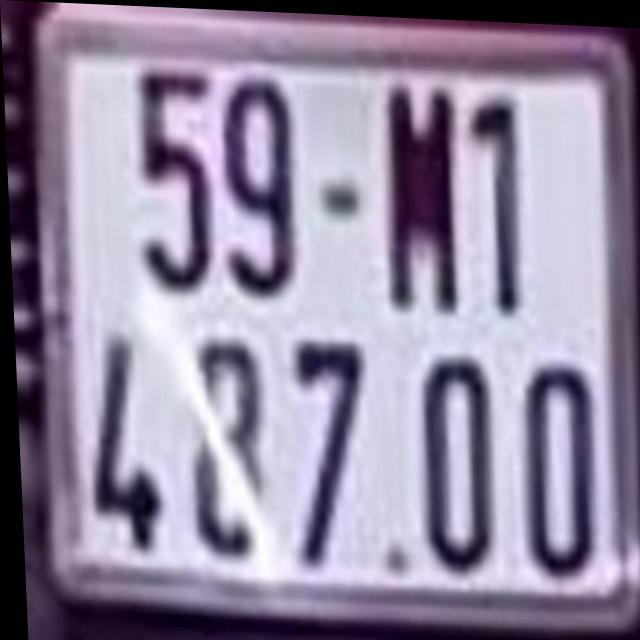0: (515, 351, 596, 570), (424, 354, 495, 571)
1: (473, 92, 528, 311)
4: (90, 357, 163, 549)
5: (135, 68, 214, 290)
7: (283, 324, 367, 560)
8: (186, 333, 256, 549)
9: (221, 82, 296, 295)
M: (388, 86, 460, 321)
